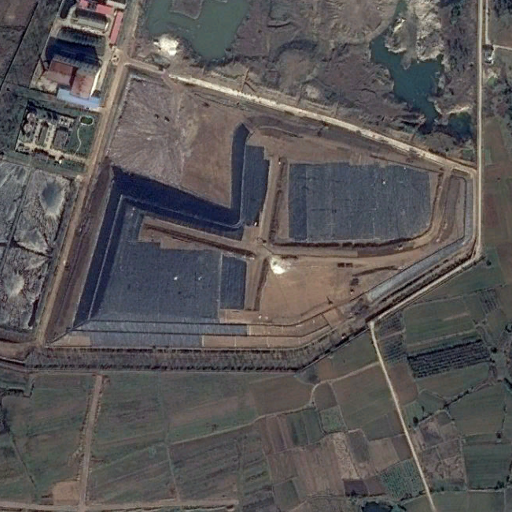lf: (35, 55, 485, 349)
